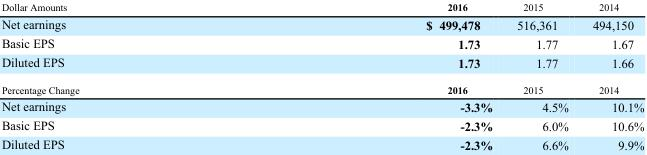table: (0, 1, 643, 151)
table column: (251, 1, 504, 151), (0, 1, 251, 151), (504, 1, 579, 151), (579, 1, 643, 151)
table column header: (0, 1, 643, 14)
table row: (0, 52, 643, 76), (0, 76, 643, 96), (0, 14, 643, 33), (0, 33, 643, 52), (0, 96, 643, 115), (0, 115, 643, 134), (0, 134, 643, 151), (0, 1, 643, 14)
